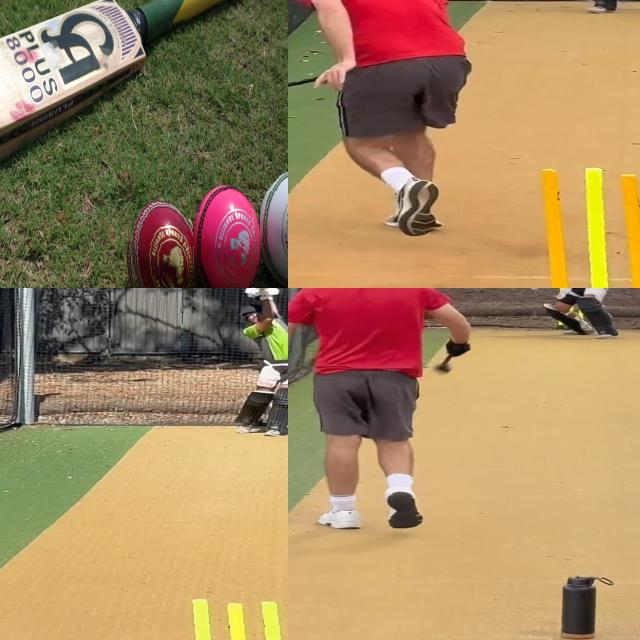Cricket ball: (193, 181, 261, 288), (125, 197, 195, 288), (260, 169, 288, 288), (530, 288, 539, 291)
Stumps: (517, 162, 640, 288), (173, 597, 288, 640)
